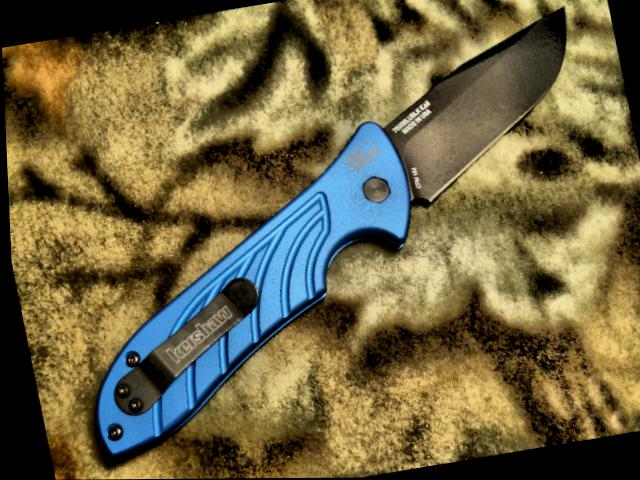knife: (328, 0, 606, 231)
